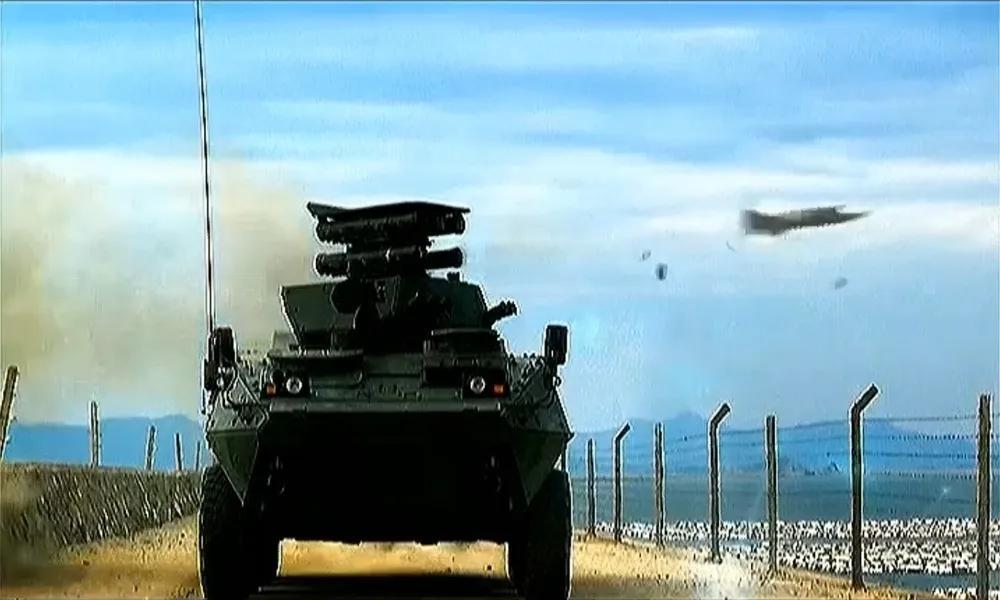MIL_IFV: (191, 189, 582, 598)
